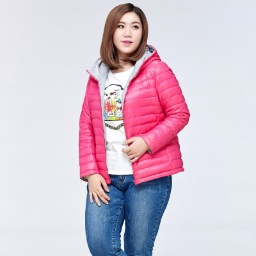face: (97, 3, 149, 64)
